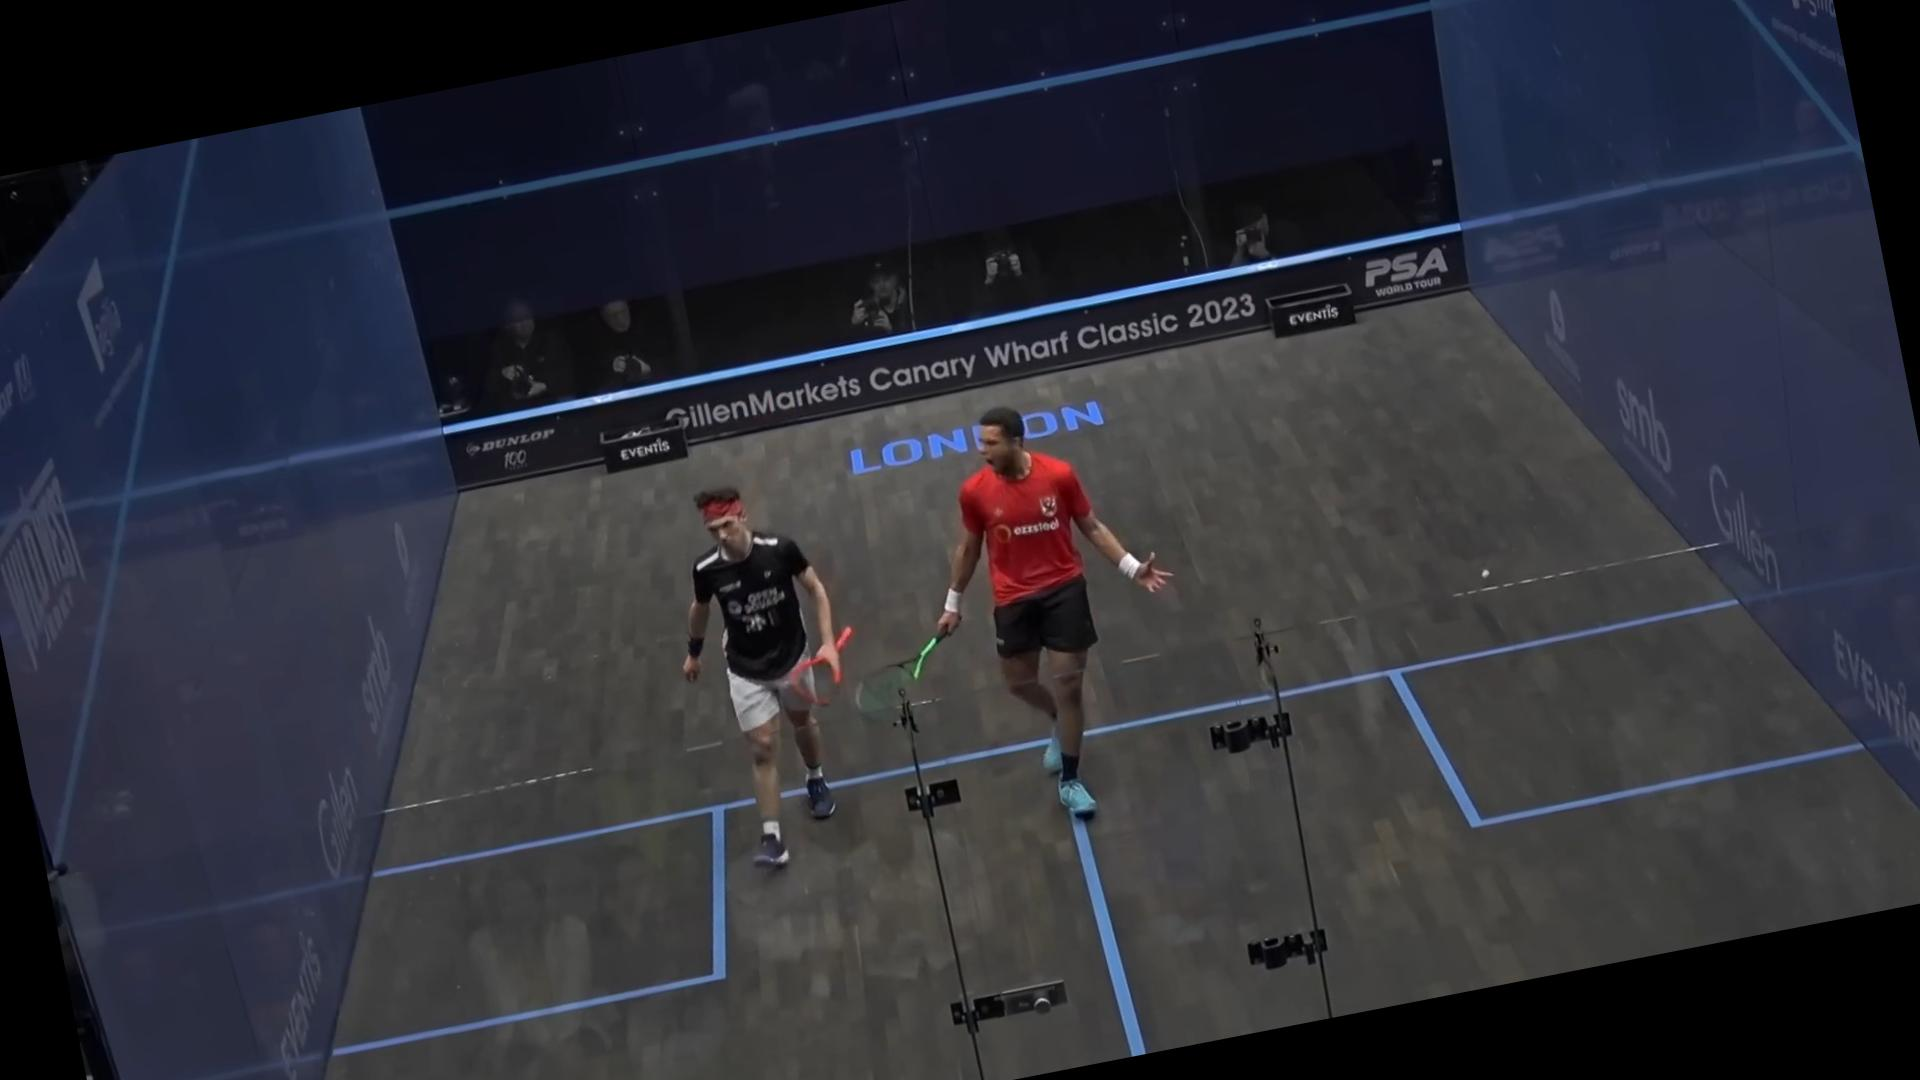Racket: (844, 622, 977, 731), (785, 616, 881, 712)
